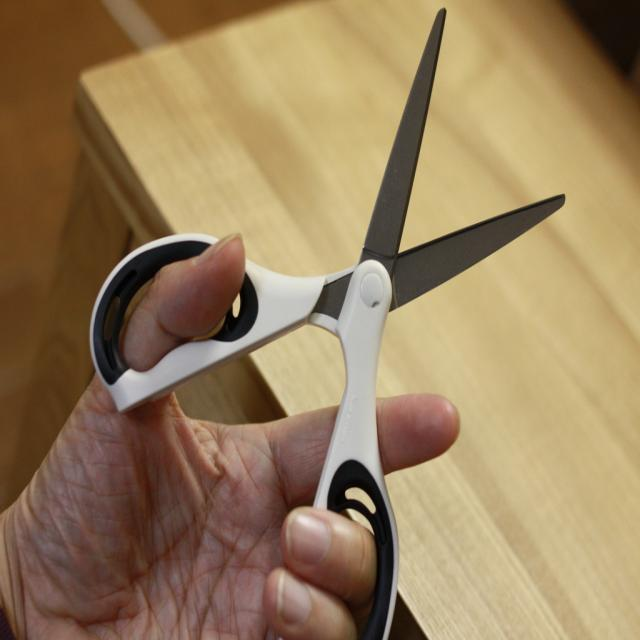scissors: (88, 7, 566, 639)
